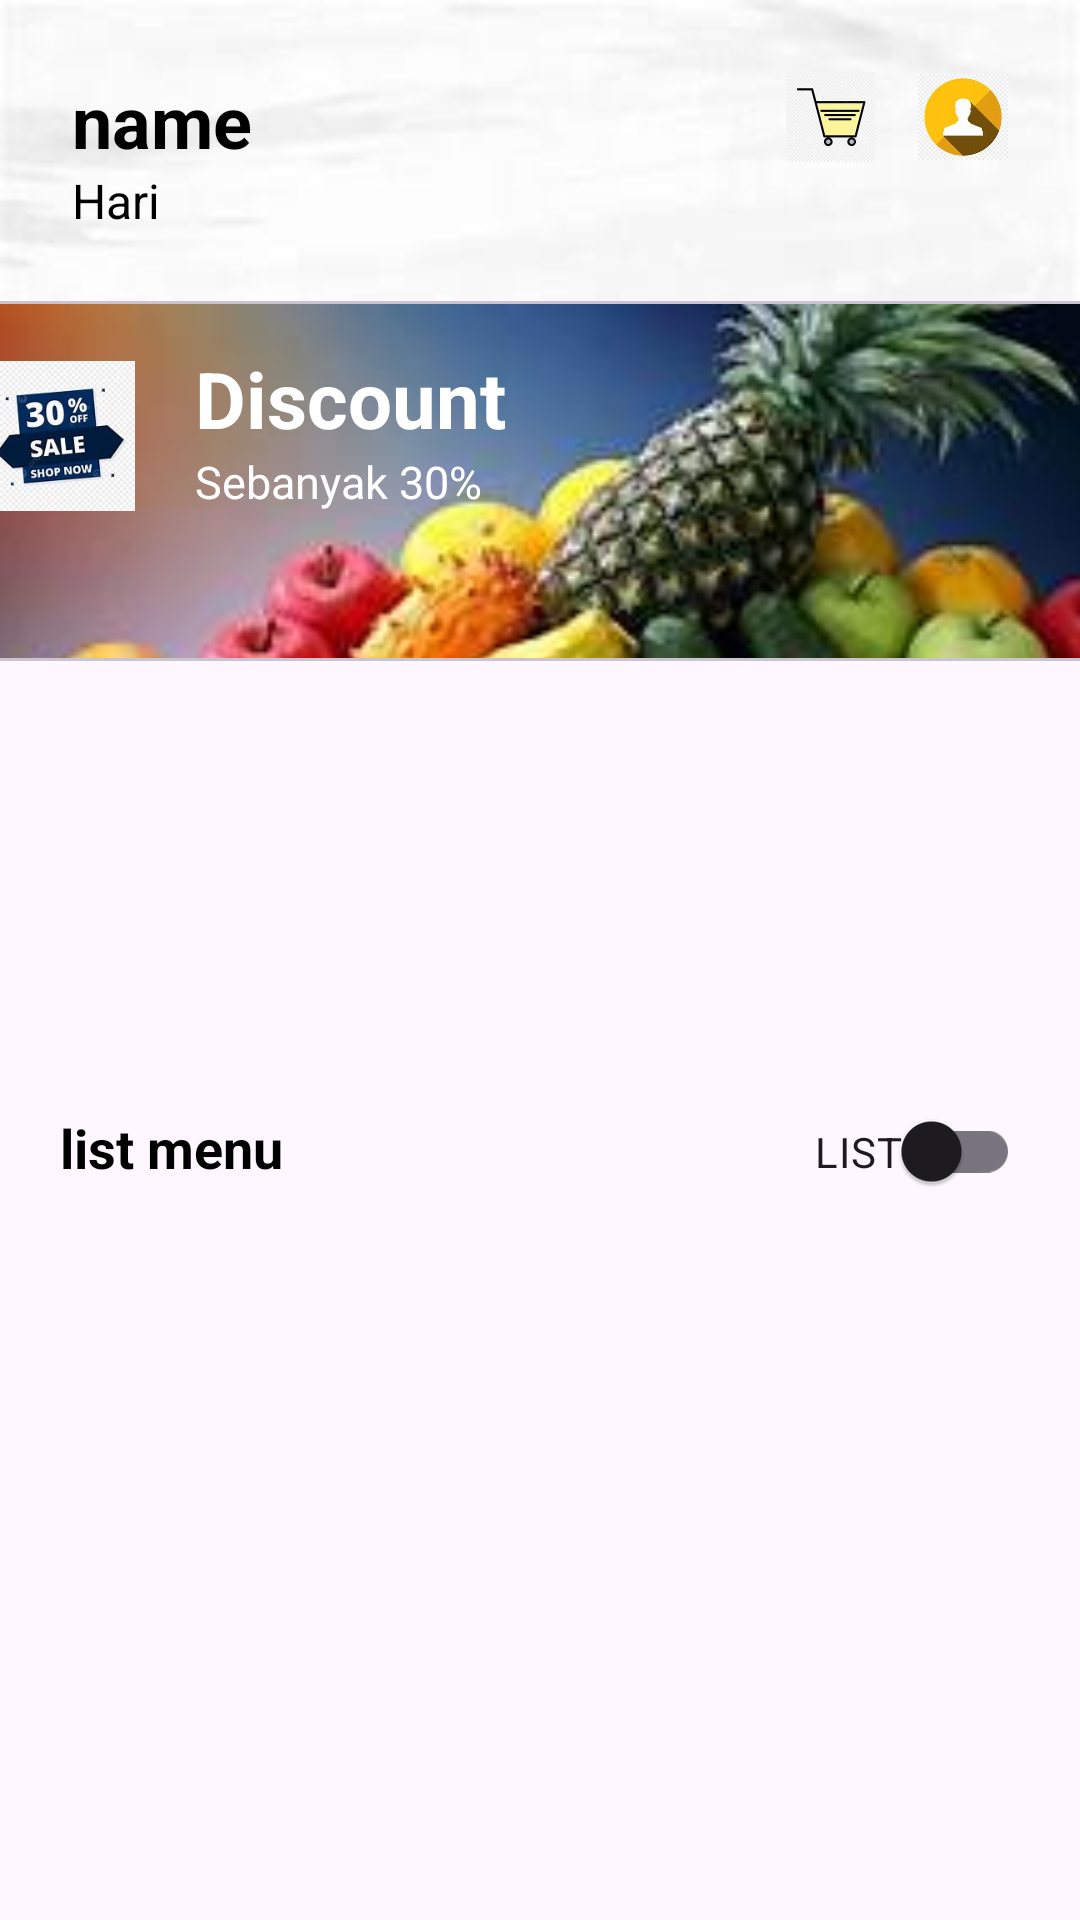

Icon click points for this 1080*1920 phone screenshot, format point (x, y):
keranjang: point (831, 117)
profile: point (960, 116)
